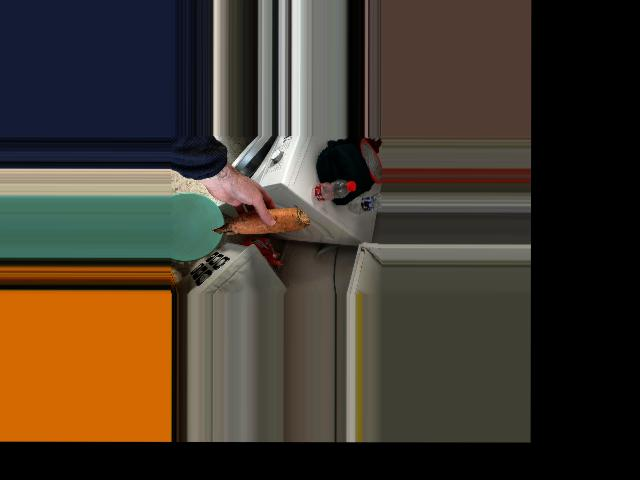sweet_potato: (214, 206, 306, 242)
